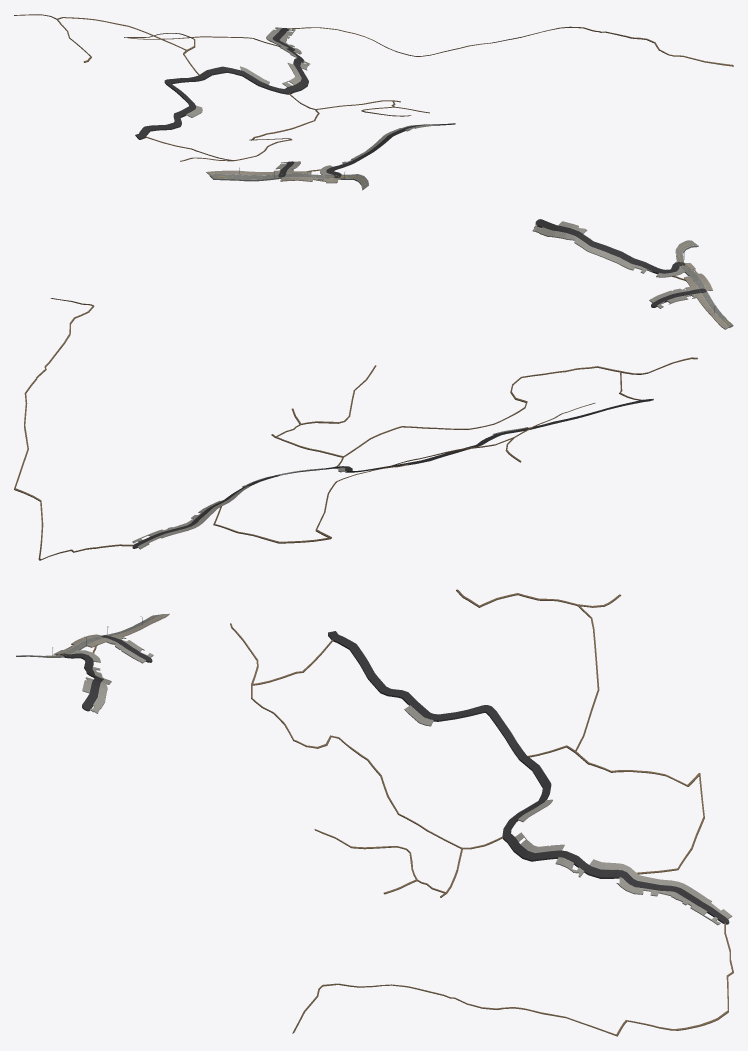
The picture shows the model from 3 angles, top to bottom: view 1: azimuth 30°, elevation 25°; view 2: azimuth 150°, elevation 25°; view 3: azimuth 270°, elevation 25°; orthographic projection. The views are drawn at different scales.
Size of the model in its own units: 588 by 170 by 537.
